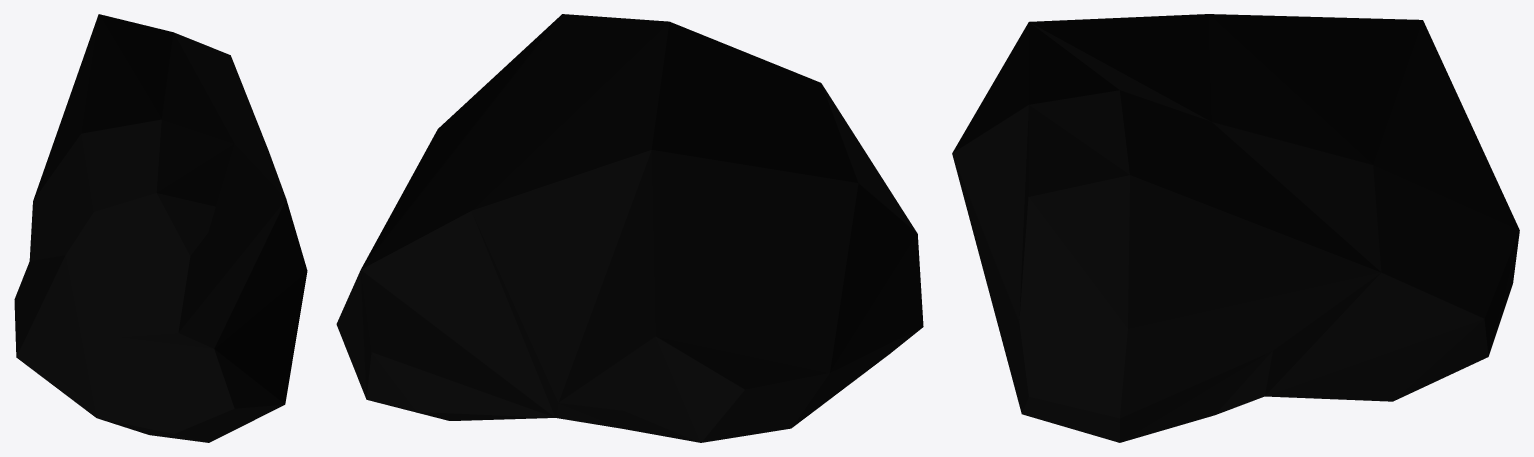
The picture shows the model from 3 angles, left to right: view 1: azimuth 30°, elevation 25°; view 2: azimuth 150°, elevation 25°; view 3: azimuth 270°, elevation 25°; orthographic projection. The views are drawn at different scales.
Size of the model in its own units: 0.416 by 0.415 by 0.4827.
Materials: 1 (1 with a texture image).
